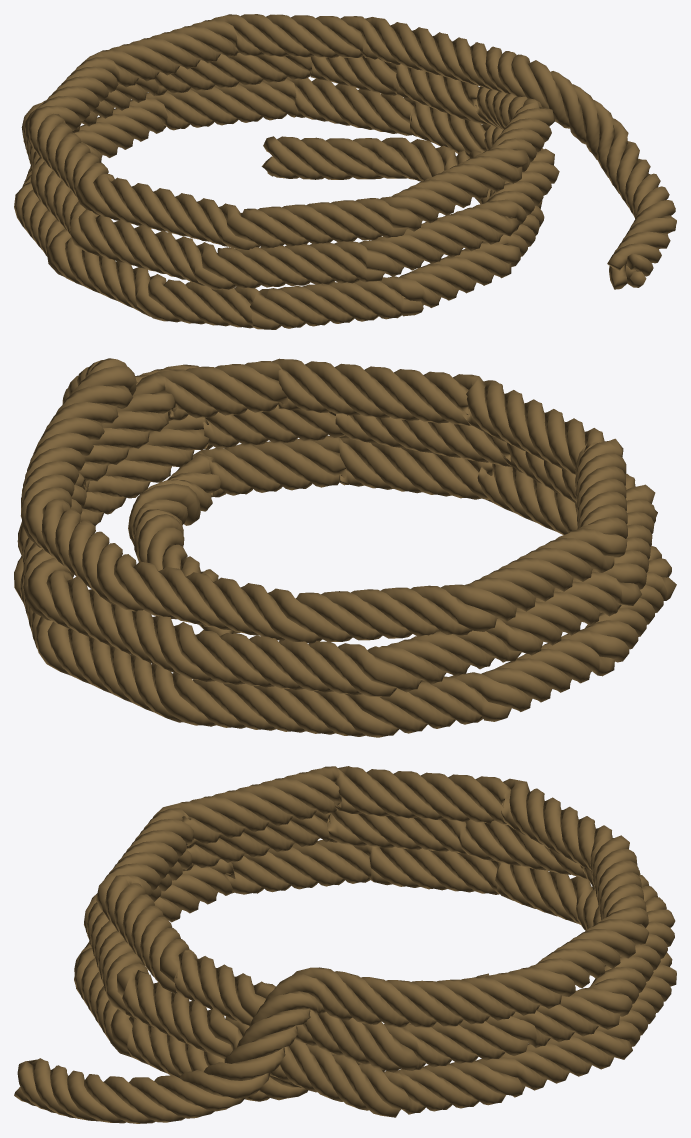
Rendered from rope.glb.
3 views of the same model, one above another, from view 1: azimuth 30°, elevation 25°; view 2: azimuth 150°, elevation 25°; view 3: azimuth 270°, elevation 25° (orthographic). The views are drawn at different scales.
Parts seen in each view (by area): view 1: Rope_0; view 2: Rope_0; view 3: Rope_0.
Boxes of the visible parts, box(x1,y1,x2,y2) form: Rope_0: box(14, 14, 676, 329); Rope_0: box(14, 358, 676, 737); Rope_0: box(14, 766, 676, 1123).
Size of the model in its own units: 29.84 by 7.45 by 29.67.
